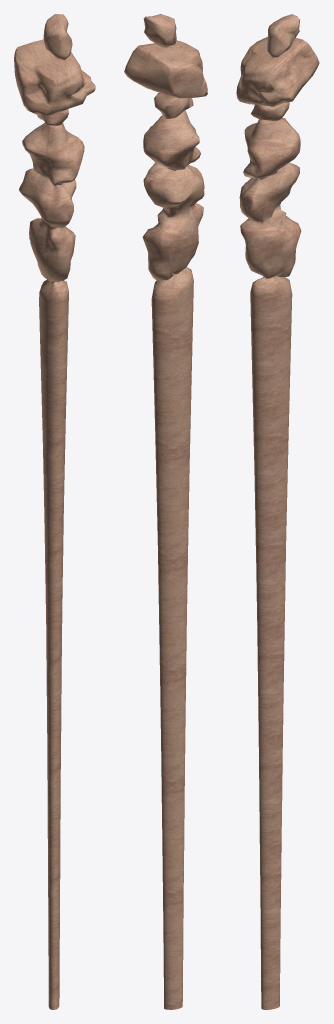
File: Ob_RockPillar7.fbx
The picture shows the model from 3 angles, left to right: view 1: azimuth 30°, elevation 25°; view 2: azimuth 150°, elevation 25°; view 3: azimuth 330°, elevation 25°; orthographic projection.
Parts seen in each view (by area): view 1: Ob_RockPillar7; view 2: Ob_RockPillar7; view 3: Ob_RockPillar7.
Boxes of the visible parts, left/top/right/bottom form: Ob_RockPillar7: left=14, top=14, right=95, bottom=1009; Ob_RockPillar7: left=124, top=14, right=207, bottom=1009; Ob_RockPillar7: left=236, top=14, right=319, bottom=1009.
Bounding box in the file's own units: 21376 × 322162 × 24258.
